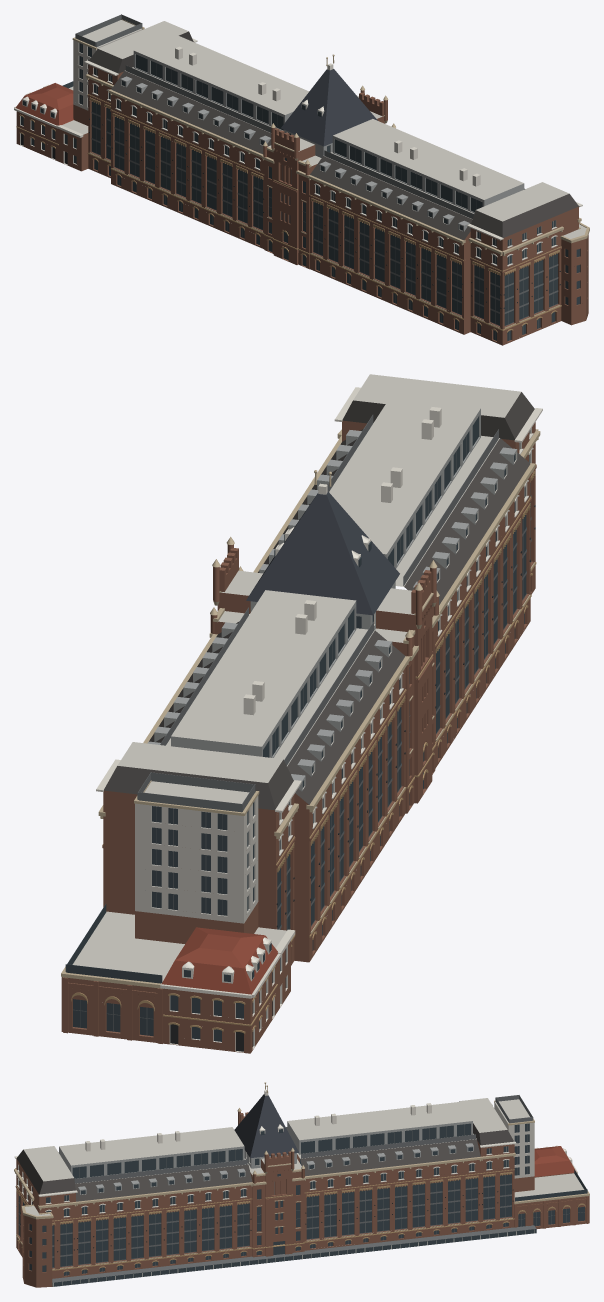
The model's file is graansilo-korthals-altes.glb.
3 renders of one model, top to bottom at view 1: azimuth 30°, elevation 25°; view 2: azimuth 150°, elevation 25°; view 3: azimuth 270°, elevation 25°, orthographic. The views are drawn at different scales.
Parts seen in each view (by area): view 1: graansilo-korthals-altes; view 2: graansilo-korthals-altes; view 3: graansilo-korthals-altes.
Boxes of the visible parts, x1,y1,x2,y2 form: graansilo-korthals-altes: (14,14,589,345); graansilo-korthals-altes: (61,374,542,1053); graansilo-korthals-altes: (14,1082,589,1287).
Bounding box in the file's own units: 52.89 × 36.19 × 122.
